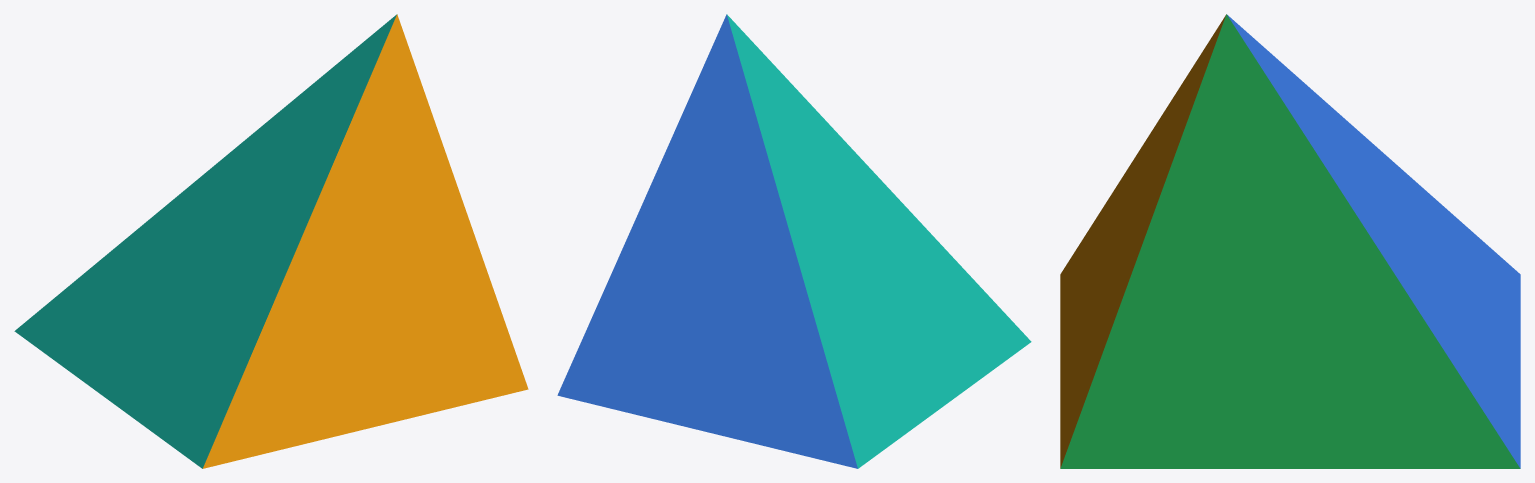
File: limas-miring.glb
The picture shows the model from 3 angles, left to right: view 1: azimuth 30°, elevation 25°; view 2: azimuth 150°, elevation 25°; view 3: azimuth 270°, elevation 25°; orthographic projection. The views are drawn at different scales.
Parts seen in each view (by area): view 1: tegak3, tegak4; view 2: tegak1, tegak4; view 3: tegak2, tegak1, tegak3.
Boxes of the visible parts, x1,y1,x2,y2 form: tegak3: [202, 14, 528, 468]; tegak4: [14, 14, 396, 468]; tegak1: [557, 14, 857, 468]; tegak4: [727, 14, 1031, 468]; tegak2: [1060, 14, 1520, 468]; tegak1: [1227, 14, 1520, 468]; tegak3: [1060, 14, 1226, 468].
Bounding box in the file's own units: 1.8 × 1.8 × 1.8.
